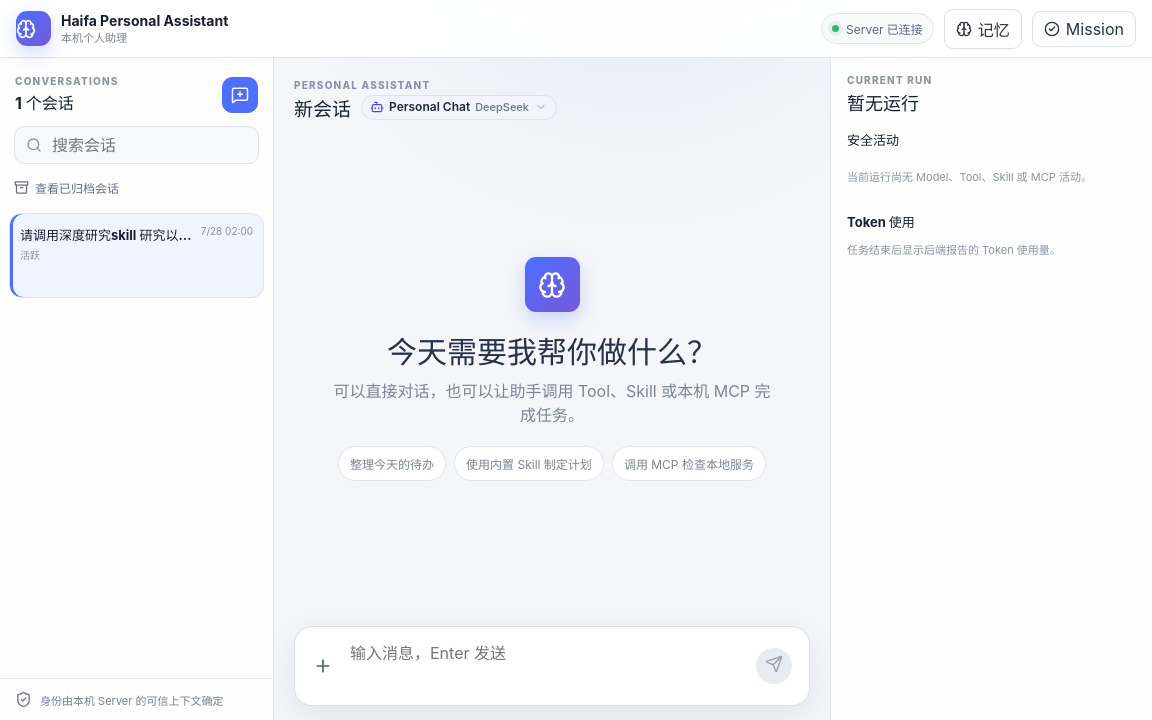
Test: Personal Assistant application › derives a meaningful title for a generic research objective and shows live execution detail
Click the button "Mission": (1084, 28) [1032,10,1136,46]
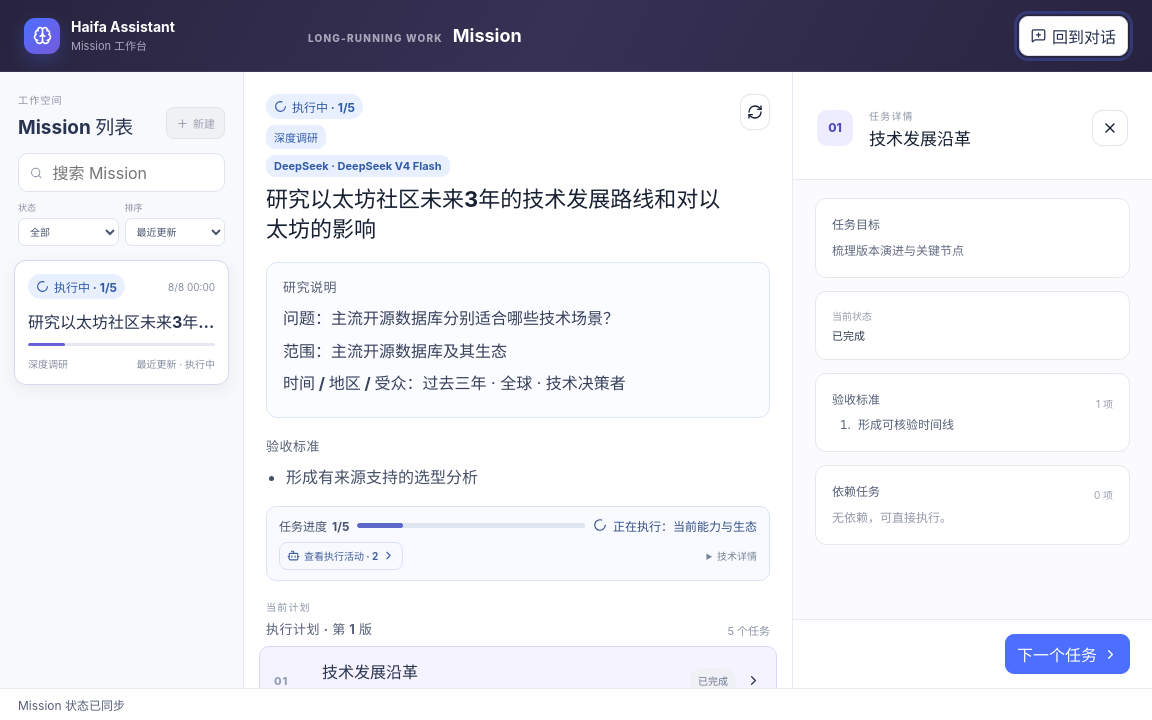
Check: the 1st icon with class "mission-state-spinner" is shown, box [274,100,287,113]
Check: the text "正在执行：当前能力与生态" is shown, box [593,516,757,534]
Click the button "查看执行活动 · 2": (341, 556) [279,542,403,570]
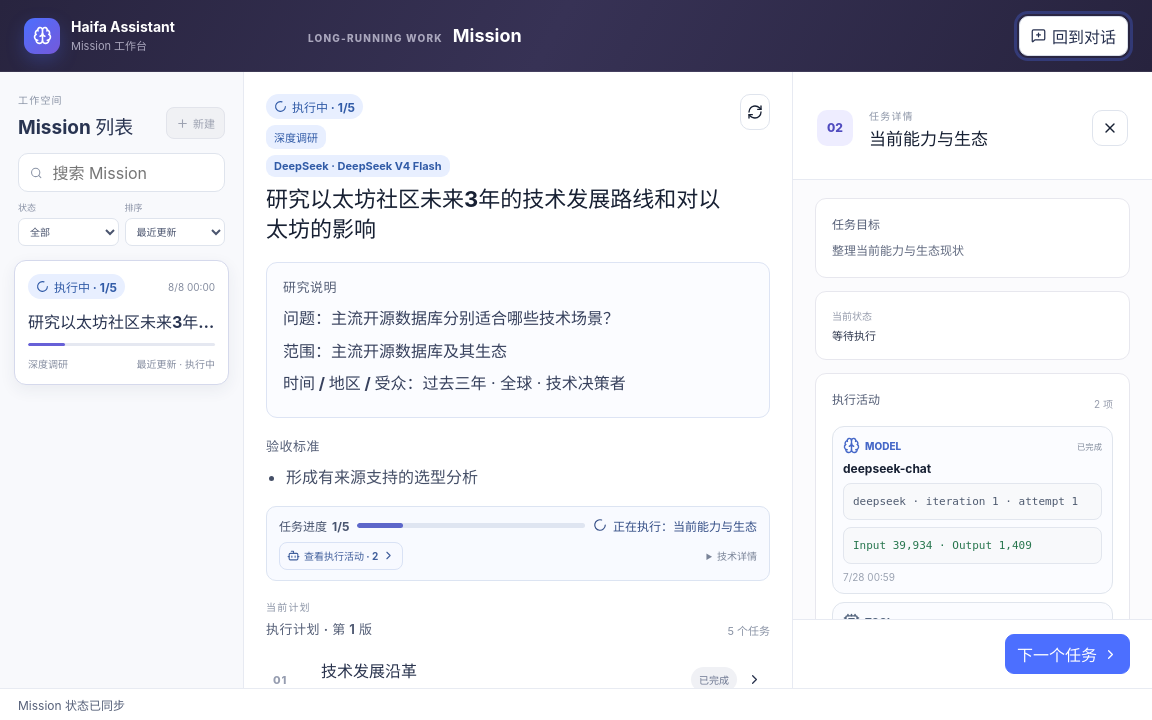
Check: the text "deepseek-chat" is shown, box [843,461,931,476]
Check: the text "Input 39,934 · Output 1,409" is shown, box [843,527,1102,564]
